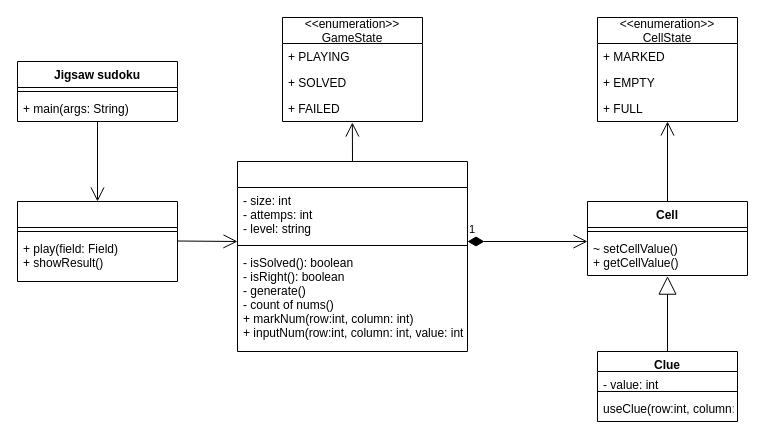
Image size: 768x442. Some labels were removed from this diagram. The shapes that lost their labels are listed below. From the top down, each one's box as (x1, y1, x2, y2) in pixels, then its label:
(16, 200, 178, 282): Menu
(236, 160, 468, 352): Field
